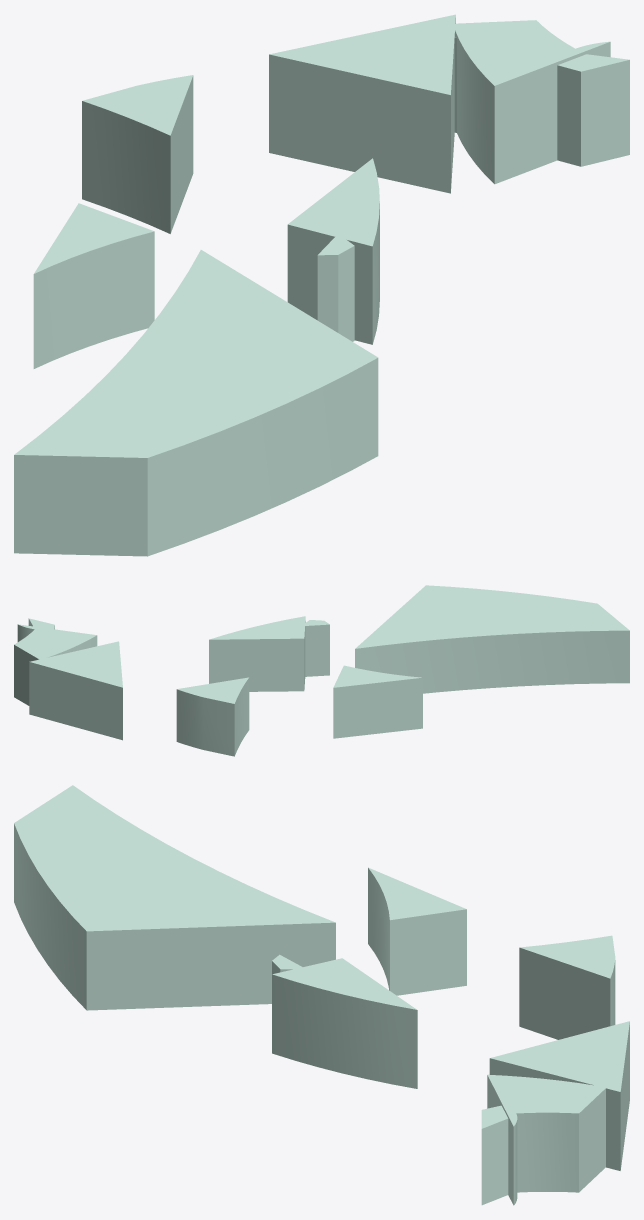
3 views of the same model, one above another, from view 1: azimuth 30°, elevation 25°; view 2: azimuth 150°, elevation 25°; view 3: azimuth 270°, elevation 25° (orthographic). The views are drawn at different scales.
Visible parts, largest first — view 1: Renderer Node; view 2: Renderer Node; view 3: Renderer Node.
Part boxes in pixels (x1,y1,x2,y2): Renderer Node: (14, 14, 629, 556); Renderer Node: (14, 585, 629, 756); Renderer Node: (14, 785, 629, 1205).
Bounding box in the file's own units: 2.17 × 0.2578 × 1.65.
